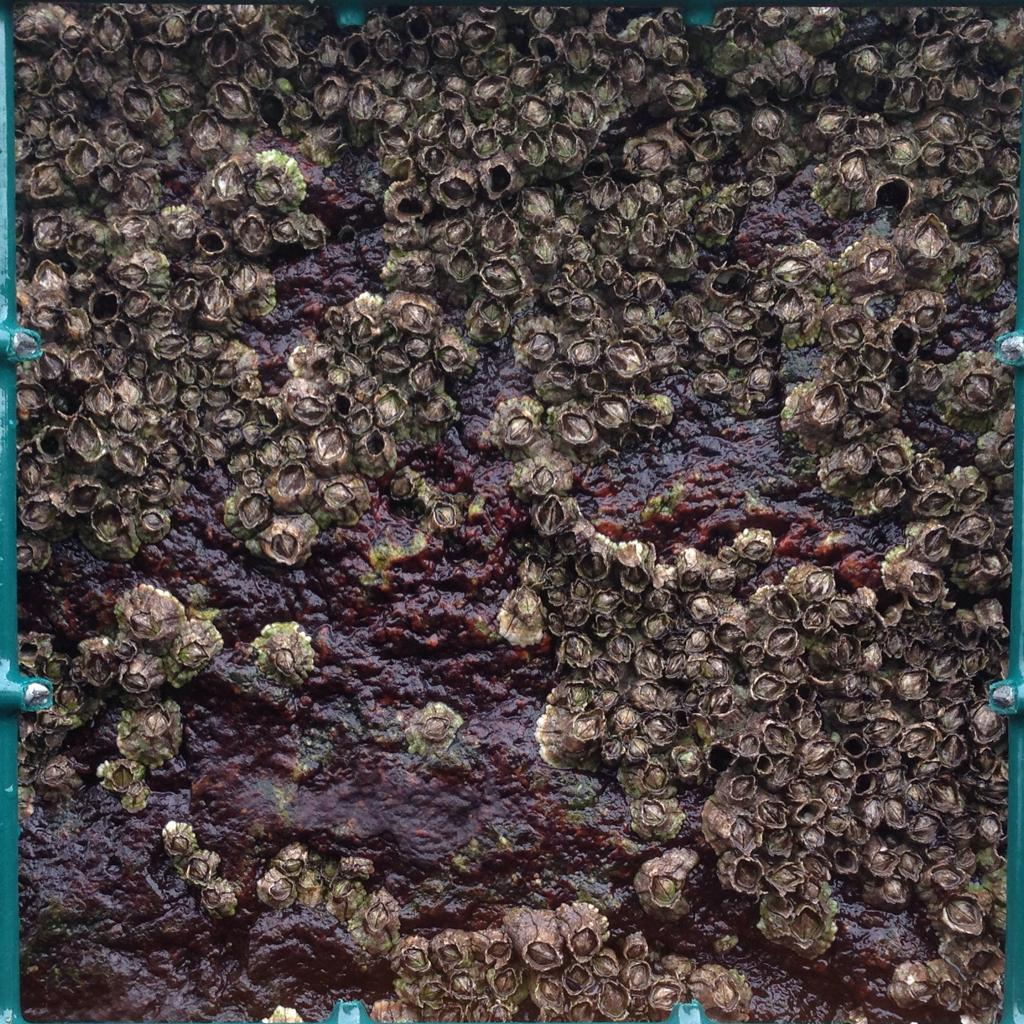Barnacle: (185, 113, 223, 154), (631, 140, 675, 175), (214, 81, 251, 120), (481, 256, 520, 292), (944, 896, 982, 930), (789, 907, 821, 947), (812, 383, 843, 423), (69, 418, 99, 459), (94, 10, 124, 51), (914, 220, 944, 260), (921, 33, 953, 70), (251, 171, 283, 207), (802, 566, 834, 601), (894, 977, 930, 1008), (70, 349, 101, 385), (66, 139, 97, 175), (900, 723, 937, 753), (599, 980, 628, 1018), (22, 497, 60, 526), (214, 161, 243, 199), (351, 81, 379, 120), (804, 741, 836, 775), (31, 163, 65, 195), (36, 262, 65, 299), (649, 982, 683, 1013), (560, 415, 594, 446), (964, 374, 994, 409), (124, 172, 152, 209), (931, 113, 963, 145), (122, 88, 154, 120), (612, 343, 645, 374), (263, 35, 296, 66), (965, 985, 999, 1015), (485, 214, 513, 250), (589, 178, 617, 214), (312, 80, 340, 116), (135, 41, 160, 81), (752, 106, 781, 140), (277, 464, 305, 499), (315, 427, 343, 462), (50, 116, 78, 151), (973, 706, 1002, 739), (776, 257, 809, 286), (34, 215, 62, 249), (95, 503, 122, 538), (731, 814, 757, 850), (19, 454, 43, 493), (374, 390, 404, 421), (7, 60, 38, 90), (650, 875, 679, 907), (204, 278, 229, 315), (596, 70, 624, 103), (866, 718, 900, 745), (231, 260, 258, 294), (704, 684, 734, 714), (416, 111, 446, 141), (569, 927, 598, 958), (598, 395, 629, 424), (764, 628, 796, 656), (957, 516, 989, 544), (296, 396, 328, 424), (865, 248, 893, 280), (840, 152, 867, 185), (244, 55, 271, 88), (748, 673, 782, 699), (240, 215, 266, 249), (638, 21, 663, 56), (159, 15, 188, 45), (526, 940, 557, 968), (872, 478, 900, 509), (765, 723, 792, 755), (669, 231, 693, 267), (566, 33, 590, 69), (930, 781, 959, 810), (733, 859, 761, 889), (571, 337, 599, 367), (569, 94, 595, 126), (899, 76, 922, 112), (154, 334, 187, 359), (939, 701, 968, 729), (522, 190, 550, 219), (691, 133, 719, 162), (922, 527, 949, 557), (592, 657, 618, 688), (239, 494, 265, 525), (154, 444, 185, 470), (462, 24, 493, 50), (86, 650, 111, 682), (115, 263, 147, 288), (953, 195, 978, 227), (769, 865, 797, 893), (831, 598, 859, 626), (400, 302, 428, 330), (405, 70, 433, 98), (898, 669, 927, 696), (689, 594, 716, 623), (550, 126, 573, 160), (939, 735, 965, 765), (143, 705, 169, 735), (492, 968, 517, 999), (116, 439, 141, 470), (954, 67, 978, 99), (271, 531, 299, 558), (411, 362, 439, 389), (770, 592, 796, 621), (97, 163, 123, 192), (666, 81, 692, 110), (903, 781, 927, 812), (537, 498, 561, 529), (157, 85, 188, 109), (51, 50, 74, 82), (930, 651, 958, 677), (911, 572, 939, 598), (527, 331, 553, 359), (777, 292, 803, 320), (521, 134, 543, 167), (131, 610, 160, 635), (39, 352, 63, 382), (997, 149, 1021, 179), (710, 109, 740, 133), (637, 647, 660, 678), (617, 185, 639, 217), (228, 1, 260, 23), (417, 980, 444, 1006), (879, 765, 906, 791), (646, 714, 672, 741), (573, 713, 600, 739), (563, 636, 589, 663), (142, 474, 169, 500), (364, 902, 389, 930), (878, 445, 906, 470), (713, 979, 737, 1008), (581, 551, 605, 580), (148, 372, 172, 401), (862, 345, 886, 374), (986, 187, 1010, 216), (818, 111, 847, 135), (621, 54, 645, 83), (441, 177, 471, 200), (758, 799, 784, 825), (716, 623, 742, 649), (506, 416, 532, 442), (58, 684, 83, 711), (857, 382, 882, 409), (748, 279, 775, 304), (443, 220, 470, 245), (449, 971, 473, 999), (561, 598, 585, 626), (115, 406, 139, 434), (473, 128, 497, 156), (591, 591, 620, 614), (833, 350, 856, 379), (378, 345, 407, 368), (539, 978, 561, 1008), (565, 963, 587, 993), (932, 866, 962, 888), (882, 628, 904, 658), (297, 56, 319, 86), (733, 20, 754, 51), (327, 481, 352, 507), (836, 319, 862, 344), (953, 618, 977, 645), (124, 291, 151, 315), (890, 138, 914, 165), (643, 215, 662, 249), (973, 748, 996, 776), (512, 588, 535, 616), (743, 537, 771, 560), (911, 459, 934, 487), (513, 60, 541, 83), (938, 979, 960, 1008), (883, 796, 905, 825), (848, 443, 870, 472), (912, 813, 937, 838), (675, 748, 700, 773), (12, 13, 37, 38), (773, 757, 797, 783), (703, 325, 729, 349), (384, 127, 408, 153), (401, 947, 428, 970), (187, 855, 210, 882), (614, 704, 637, 731), (188, 331, 215, 354), (66, 307, 89, 334), (76, 50, 96, 81), (216, 406, 244, 428), (711, 205, 733, 233), (630, 962, 651, 991), (921, 492, 950, 513), (89, 386, 110, 415), (664, 200, 685, 229), (799, 854, 824, 878), (640, 799, 664, 824), (747, 365, 771, 390), (524, 99, 549, 123), (810, 73, 835, 97), (709, 565, 732, 591), (200, 434, 223, 460), (17, 383, 43, 406), (213, 357, 236, 383), (34, 304, 60, 327), (569, 294, 595, 317), (117, 143, 143, 166), (855, 46, 877, 73), (452, 250, 473, 278), (641, 177, 662, 205), (382, 60, 402, 89), (466, 999, 490, 1023), (423, 397, 447, 421), (952, 147, 976, 171), (858, 121, 882, 145), (51, 86, 75, 110), (109, 764, 132, 789), (258, 439, 281, 464), (115, 380, 140, 403), (703, 369, 726, 394), (173, 215, 198, 238), (592, 954, 618, 976), (859, 796, 881, 822), (645, 765, 667, 791), (40, 764, 66, 786), (437, 346, 463, 368), (727, 306, 753, 328), (571, 264, 593, 290), (760, 147, 782, 173), (319, 118, 341, 144), (963, 647, 984, 674), (174, 282, 195, 309), (479, 76, 506, 97), (422, 716, 450, 736), (997, 436, 1017, 464), (682, 297, 702, 325), (122, 671, 146, 694), (980, 551, 1004, 574), (665, 40, 689, 63), (861, 639, 880, 668), (179, 641, 204, 663), (433, 502, 455, 527), (351, 316, 373, 341), (915, 307, 940, 329), (685, 163, 710, 185), (780, 71, 802, 96), (883, 876, 904, 902), (548, 364, 574, 385), (662, 10, 683, 36), (927, 841, 957, 859), (449, 118, 467, 148), (961, 20, 988, 40), (869, 852, 897, 871), (532, 464, 551, 492), (536, 233, 555, 261), (571, 1000, 594, 1023), (730, 775, 753, 798), (624, 565, 647, 588), (735, 339, 758, 362), (269, 877, 293, 899), (114, 636, 136, 660), (408, 263, 432, 285), (382, 101, 406, 123), (906, 639, 927, 664), (423, 146, 444, 171), (289, 98, 310, 123), (117, 216, 146, 234), (68, 232, 94, 252), (524, 554, 543, 581), (377, 31, 396, 58), (971, 948, 993, 971), (433, 32, 455, 55), (641, 683, 662, 707), (392, 474, 413, 498), (319, 37, 337, 65), (195, 9, 216, 33), (831, 757, 856, 777), (566, 193, 586, 218), (799, 709, 818, 735), (405, 46, 427, 68), (439, 942, 462, 963), (170, 833, 193, 854), (805, 605, 828, 626), (13, 543, 34, 566), (958, 486, 981, 507), (285, 434, 306, 457), (148, 305, 171, 326), (600, 215, 623, 236), (980, 108, 1001, 131), (533, 5, 554, 28), (706, 655, 726, 679), (120, 487, 140, 511), (440, 90, 464, 110), (900, 849, 919, 874), (844, 674, 862, 700), (790, 781, 812, 802), (737, 734, 758, 756), (568, 683, 589, 705), (45, 658, 66, 680), (610, 638, 632, 659), (639, 278, 660, 300), (760, 1, 781, 23), (61, 23, 81, 46), (486, 940, 510, 959), (629, 736, 648, 760), (586, 368, 605, 392), (825, 785, 843, 810), (204, 387, 229, 405), (742, 643, 763, 664), (26, 117, 47, 138), (299, 868, 321, 888), (803, 826, 823, 848), (842, 701, 864, 721), (616, 608, 638, 628), (489, 53, 511, 73), (595, 692, 618, 711), (406, 337, 429, 356), (615, 275, 634, 298), (916, 760, 940, 778), (276, 647, 294, 671), (971, 134, 998, 150), (175, 357, 192, 382), (801, 881, 821, 902), (825, 812, 846, 832), (783, 658, 804, 678), (688, 628, 708, 649), (646, 616, 667, 636), (230, 452, 251, 472), (478, 302, 499, 322), (569, 237, 590, 257), (1002, 119, 1022, 140), (495, 109, 515, 130), (327, 364, 346, 386), (750, 175, 772, 194), (128, 355, 146, 378), (921, 145, 944, 163), (925, 363, 942, 387), (140, 511, 160, 531), (242, 422, 262, 442), (244, 469, 263, 490), (351, 409, 370, 430), (233, 375, 252, 396), (623, 303, 642, 324), (395, 221, 416, 240), (281, 858, 304, 875), (851, 816, 866, 842), (548, 80, 563, 106), (685, 688, 704, 708), (595, 617, 615, 636), (589, 317, 608, 337), (70, 267, 90, 286), (107, 121, 127, 140), (560, 531, 578, 552), (981, 816, 998, 838), (927, 75, 943, 98), (356, 378, 375, 397), (344, 355, 363, 374), (667, 323, 686, 342), (685, 661, 703, 681), (224, 429, 242, 449), (600, 261, 618, 281), (330, 878, 351, 895), (549, 287, 570, 304), (666, 178, 687, 195), (603, 738, 621, 757), (682, 568, 701, 586), (462, 57, 481, 75), (920, 698, 937, 718), (987, 623, 1007, 640), (652, 589, 669, 609), (302, 229, 322, 246), (731, 184, 747, 205), (547, 586, 565, 604), (330, 331, 348, 349), (556, 218, 574, 236), (718, 547, 737, 564), (667, 653, 683, 673), (195, 363, 210, 384), (204, 887, 221, 905), (665, 691, 683, 708), (183, 388, 200, 406), (275, 222, 294, 238), (626, 943, 646, 958), (317, 344, 332, 364), (443, 75, 464, 89), (897, 38, 914, 55), (547, 614, 562, 633), (895, 61, 914, 76), (595, 51, 614, 66), (867, 700, 887, 714), (623, 591, 639, 608), (107, 355, 123, 372), (356, 344, 372, 361), (548, 567, 566, 582), (575, 580, 589, 599), (958, 849, 973, 865), (128, 780, 143, 796), (869, 677, 884, 693), (547, 549, 563, 564), (329, 312, 344, 326), (664, 578, 677, 591)
